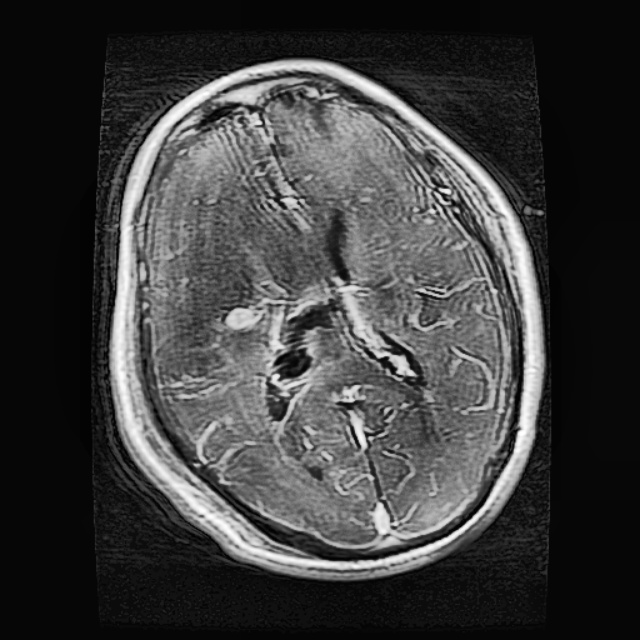Pituitary: (268, 303, 335, 422)
